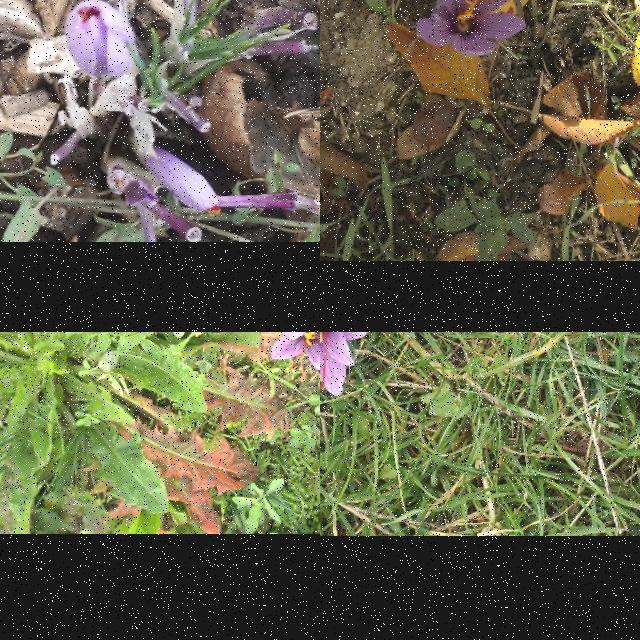flower: (416, 0, 528, 56), (139, 146, 221, 216), (67, 0, 137, 79), (320, 332, 370, 396), (272, 332, 320, 381)
